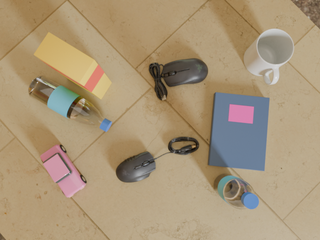book: (208, 92, 269, 171)
bottle: (28, 76, 112, 132), (214, 174, 259, 209)
box: (34, 32, 112, 99)
cup: (244, 29, 294, 85)
mouse: (149, 58, 208, 100), (116, 152, 157, 182)
toy_car: (40, 145, 86, 197)
